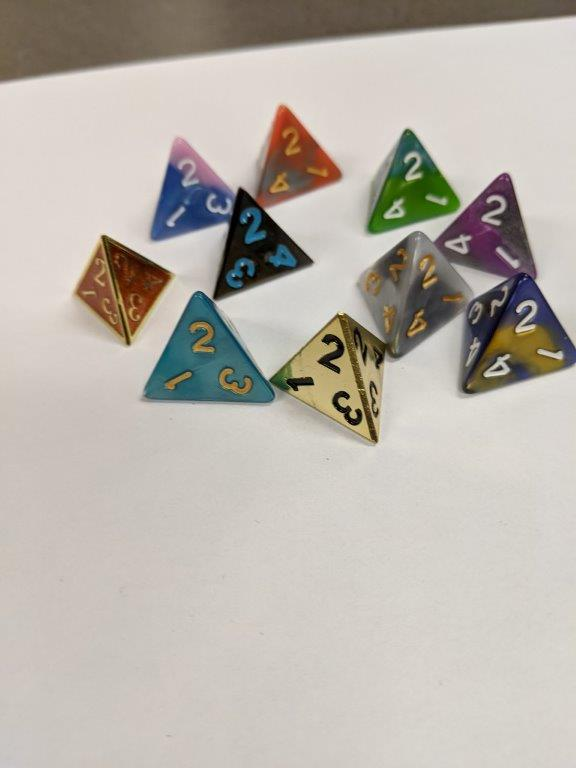d4-2: (267, 311, 388, 445), (142, 288, 275, 407), (460, 269, 576, 399), (351, 232, 469, 353), (67, 232, 172, 346), (433, 168, 538, 281), (209, 187, 317, 295), (363, 127, 458, 234), (252, 99, 346, 207), (142, 131, 231, 236)
